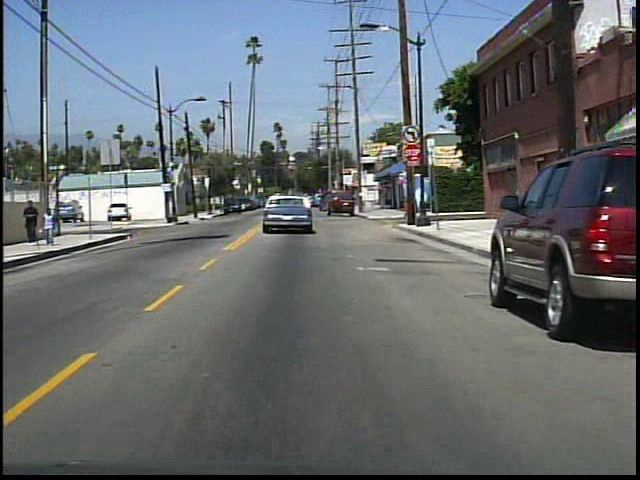person: (41, 205, 63, 248), (25, 199, 45, 245)
